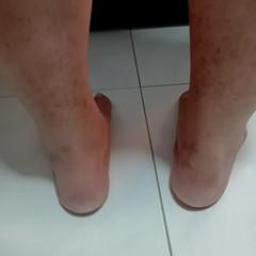Back View -Both Feet-: (4, 65, 252, 221)
